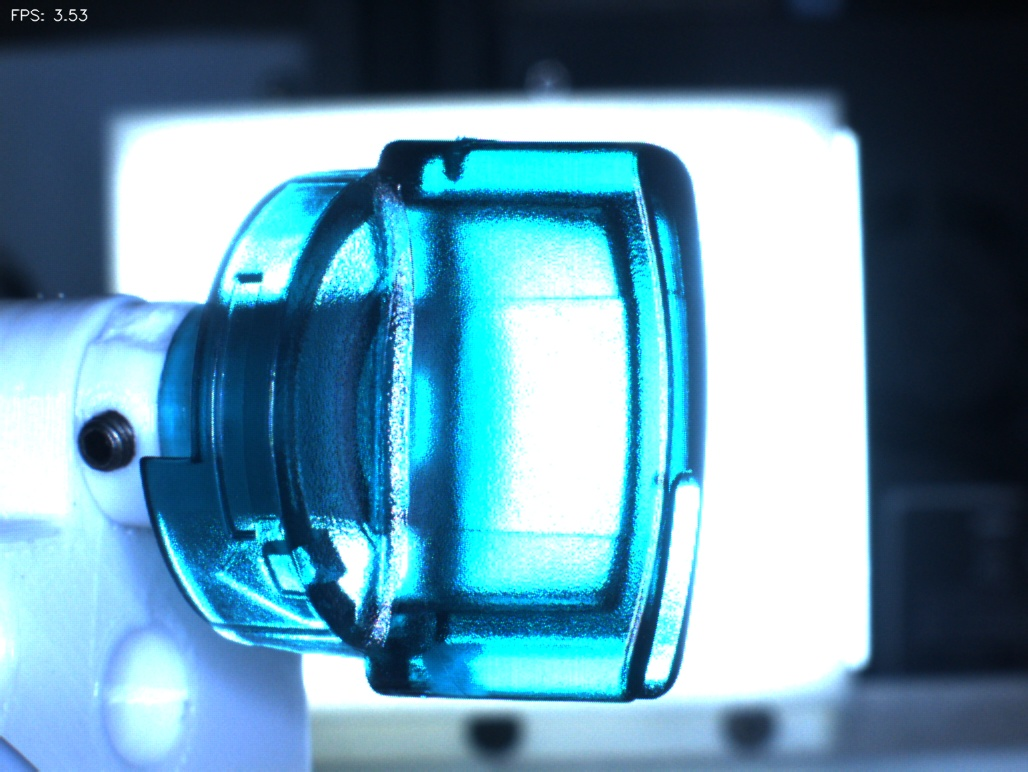Bulle: (406, 112, 505, 207)
